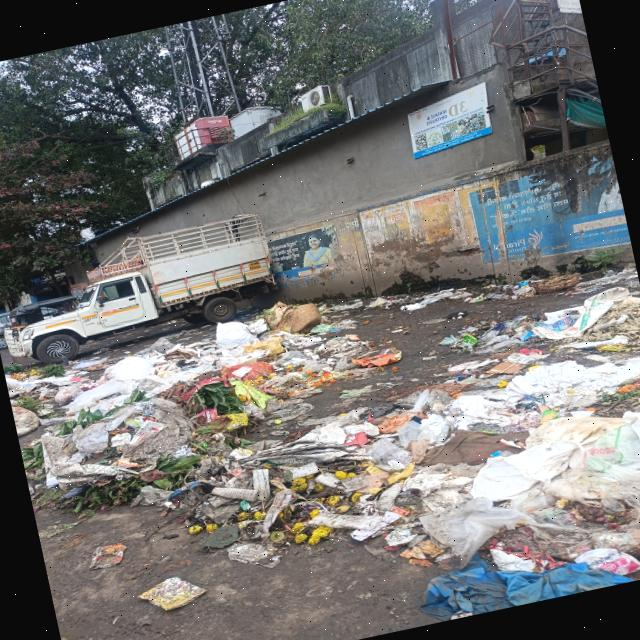garbage: (2, 289, 400, 592), (363, 263, 640, 619)
